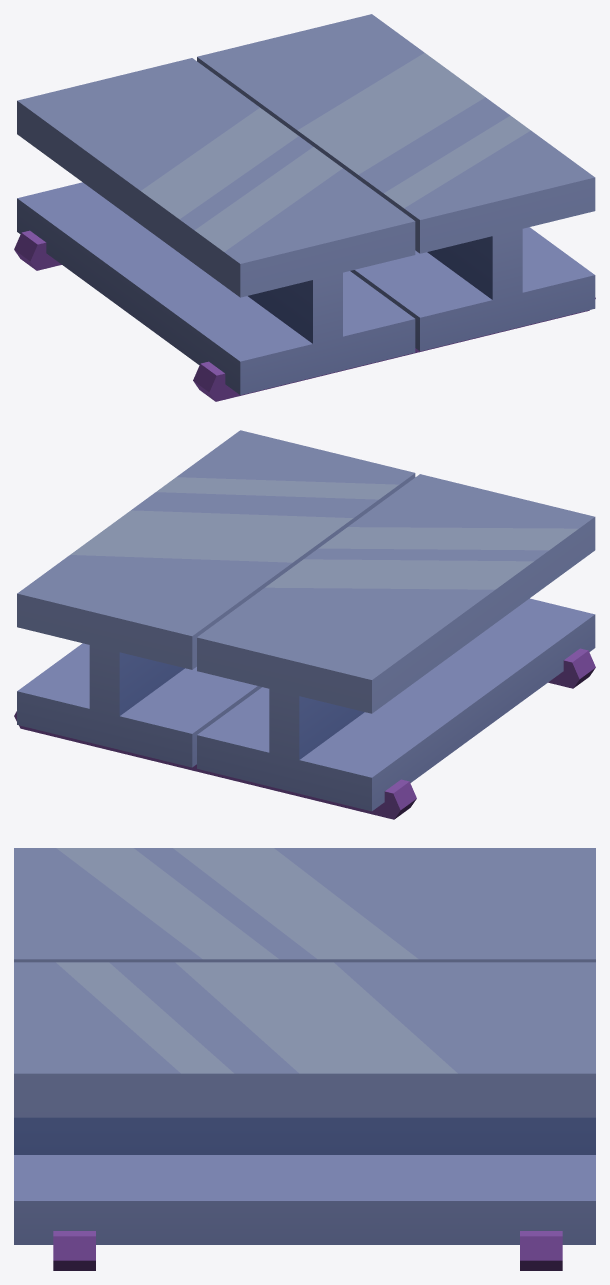
File: obstacle-steel_beam_platform_H1W2.glb
The picture shows the model from 3 angles, top to bottom: view 1: azimuth 30°, elevation 25°; view 2: azimuth 150°, elevation 25°; view 3: azimuth 270°, elevation 25°; orthographic projection. The views are drawn at different scales.
Visible parts, largest first — view 1: obstacle-steel_beam_platform_H1W2; view 2: obstacle-steel_beam_platform_H1W2; view 3: obstacle-steel_beam_platform_H1W2.
Boxes of the visible parts, left/top/right/bottom form: obstacle-steel_beam_platform_H1W2: left=14, top=14, right=595, bottom=401; obstacle-steel_beam_platform_H1W2: left=14, top=430, right=595, bottom=819; obstacle-steel_beam_platform_H1W2: left=14, top=848, right=595, bottom=1270.
Bounding box in the file's own units: 6 × 2.18 × 6.
